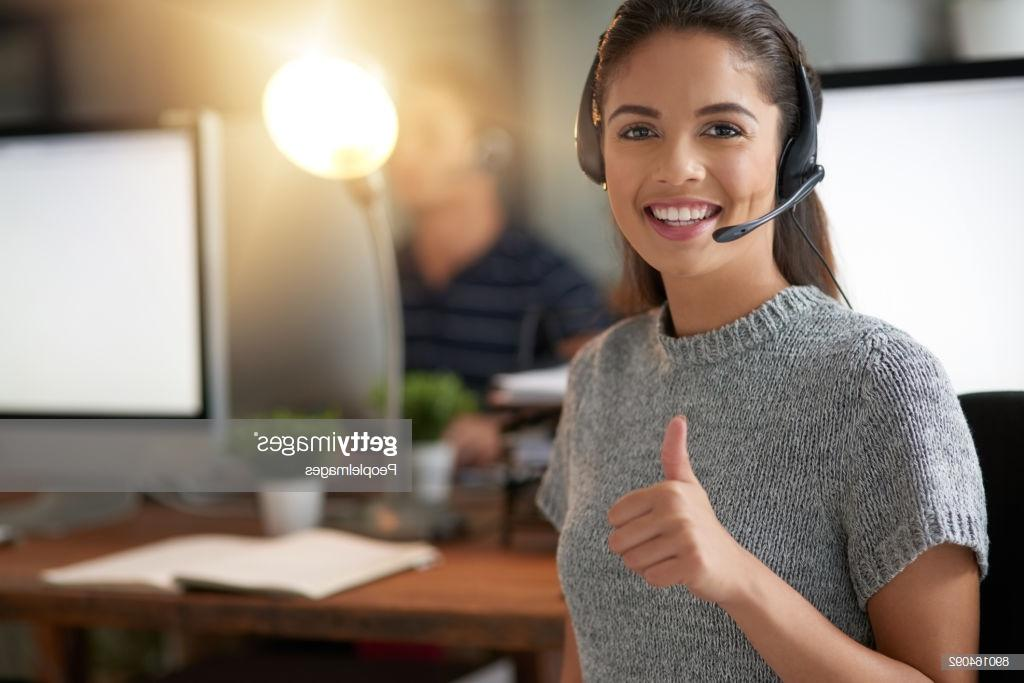thumbsup: (607, 414, 707, 588)
